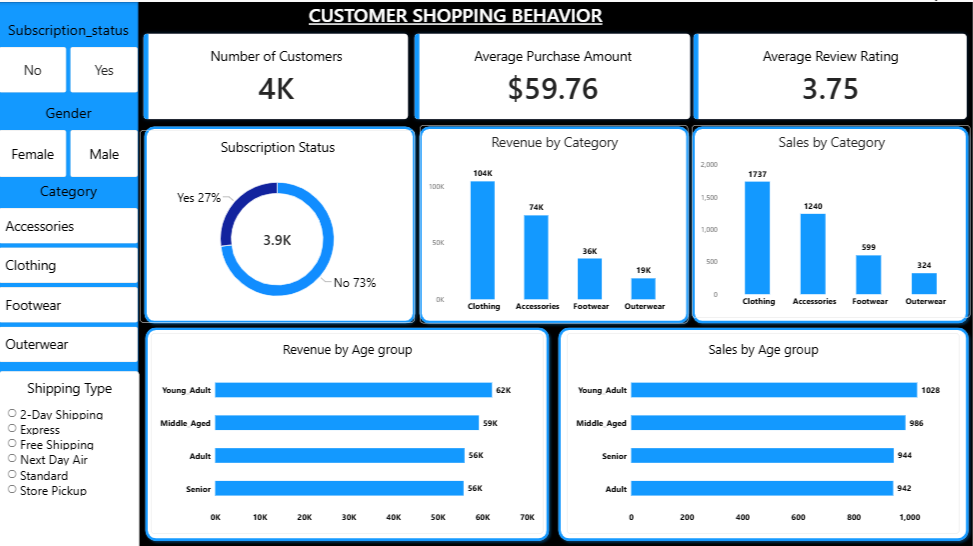

This screenshot's page, from the dashboard's own definition file:
{"tool":"powerbi","page":{"name":"Page 1","canvas":[1920,1080],"ordinal":0},"visuals":[{"type":"textbox","box":[611,0,698,73.1],"z":0},{"type":"cardVisual","fields":{"Data":["customer_behavior customer.Number of Customers"]},"box":[274.6,50.4,544.3,191.5],"z":1000},{"type":"cardVisual","fields":{"Data":["customer_behavior customer.Average Purchase Amount"]},"box":[808.8,50.4,566.9,191.5],"z":2000},{"type":"cardVisual","fields":{"Data":["customer_behavior customer.Average Review Rating"]},"box":[1358.1,50.4,561.9,191.5],"z":3000},{"type":"shape","box":[277.2,236.9,551.8,405.7],"z":4000},{"type":"donutChart","title":"Subscription Status","fields":{"Category":["customer_behavior customer.subscription_status"],"Y":["CountNonNull(customer_behavior customer.customer_id)"]},"box":[277.2,252,541.7,380.5],"z":5000},{"type":"shape","box":[818.9,236.9,549.3,405.7],"z":6000},{"type":"shape","box":[1358.1,236.9,561.9,405.7],"z":7000},{"type":"clusteredColumnChart","title":"Revenue by Category","fields":{"Category":["customer_behavior customer.category"],"Y":["Sum(customer_behavior customer.purchase_amount)"]},"box":[829,241.9,529.1,390.6],"z":8000},{"type":"clusteredColumnChart","title":"Sales by Category","fields":{"Category":["customer_behavior customer.category"],"Y":["CountNonNull(customer_behavior customer.customer_id)"]},"box":[1365.7,241.9,549.3,380.5],"z":9000},{"type":"shape","box":[0,0,274.6,1080.9],"z":10000},{"type":"advancedSlicerVisual","title":"Subscription_status","fields":{"Values":["customer_behavior customer.subscription_status"]},"box":[0,35.3,274.6,143.6],"z":11000},{"type":"advancedSlicerVisual","title":"Gender","fields":{"Values":["customer_behavior customer.gender"]},"box":[0,199.1,274.6,146.1],"z":12000},{"type":"advancedSlicerVisual","title":"Category","fields":{"Values":["customer_behavior customer.category"]},"box":[0,352.8,274.6,375.4],"z":13000},{"type":"listSlicer","title":"Shipping Type","fields":{"Values":["customer_behavior customer.shipping_type"]},"box":[0,728.2,277.2,352.8],"z":13001},{"type":"shape","box":[1093.5,632.4,826.5,438.4],"z":13003},{"type":"shape","box":[279.7,632.4,813.9,438.4],"z":13004},{"type":"clusteredBarChart","title":"Revenue by Age group","fields":{"Category":["customer_behavior customer.age_group"],"Y":["Sum(customer_behavior customer.purchase_amount)"]},"box":[299.8,652.6,773.5,395.6],"z":13005},{"type":"clusteredBarChart","title":"Sales by Age group","fields":{"Category":["customer_behavior customer.age_group"],"Y":["CountNonNull(customer_behavior customer.customer_id)"]},"box":[1118.7,652.6,773.5,395.6],"z":13006}]}

Visuals, with their boxes in screenshot pixels (x1, y1, x2, y2), scaled from the page's 1920x1080 canvas onto the 973x546 screenshot:
textbox: 310 0 663 37
cardVisual - customer_behavior customer.Number of Customers: 139 25 415 122
cardVisual - customer_behavior customer.Average Purchase Amount: 410 25 697 122
cardVisual - customer_behavior customer.Average Review Rating: 688 25 972 122
shape: 140 120 420 325
"Subscription Status" donutChart: 140 127 415 320
shape: 415 120 693 325
shape: 688 120 972 325
"Revenue by Category" clusteredColumnChart: 420 122 688 320
"Sales by Category" clusteredColumnChart: 692 122 970 315
shape: 0 0 139 545
"Subscription_status" advancedSlicerVisual: 0 18 139 90
"Gender" advancedSlicerVisual: 0 101 139 175
"Category" advancedSlicerVisual: 0 178 139 368
"Shipping Type" listSlicer: 0 368 140 545
shape: 554 320 972 541
shape: 142 320 554 541
"Revenue by Age group" clusteredBarChart: 152 330 544 530
"Sales by Age group" clusteredBarChart: 567 330 959 530
